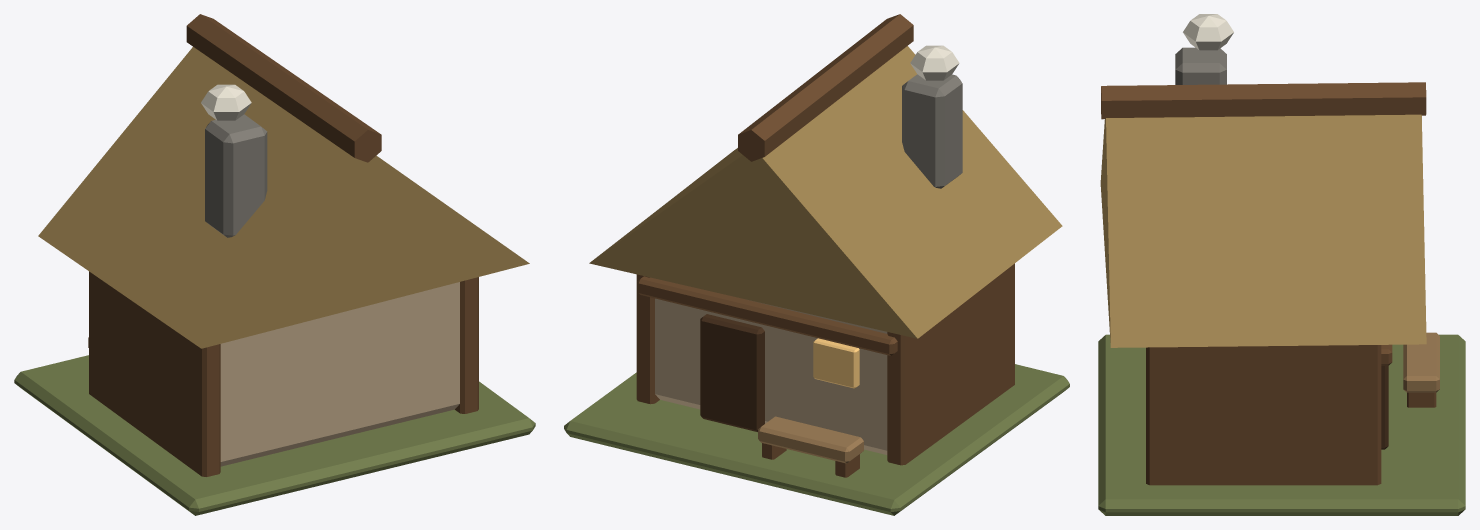
The model's file is cottage.fbx.
The picture shows the model from 3 angles, left to right: view 1: azimuth 30°, elevation 25°; view 2: azimuth 150°, elevation 25°; view 3: azimuth 270°, elevation 25°; orthographic projection. The views are drawn at different scales.
Parts seen in each view (by area): view 1: Building; view 2: Building; view 3: Building.
Boxes of the visible parts, bbox=[...] form: Building: bbox=[14, 14, 535, 515]; Building: bbox=[564, 14, 1069, 515]; Building: bbox=[1098, 14, 1465, 515].
Size of the model in its own units: 1.1 by 1 by 1.13.
